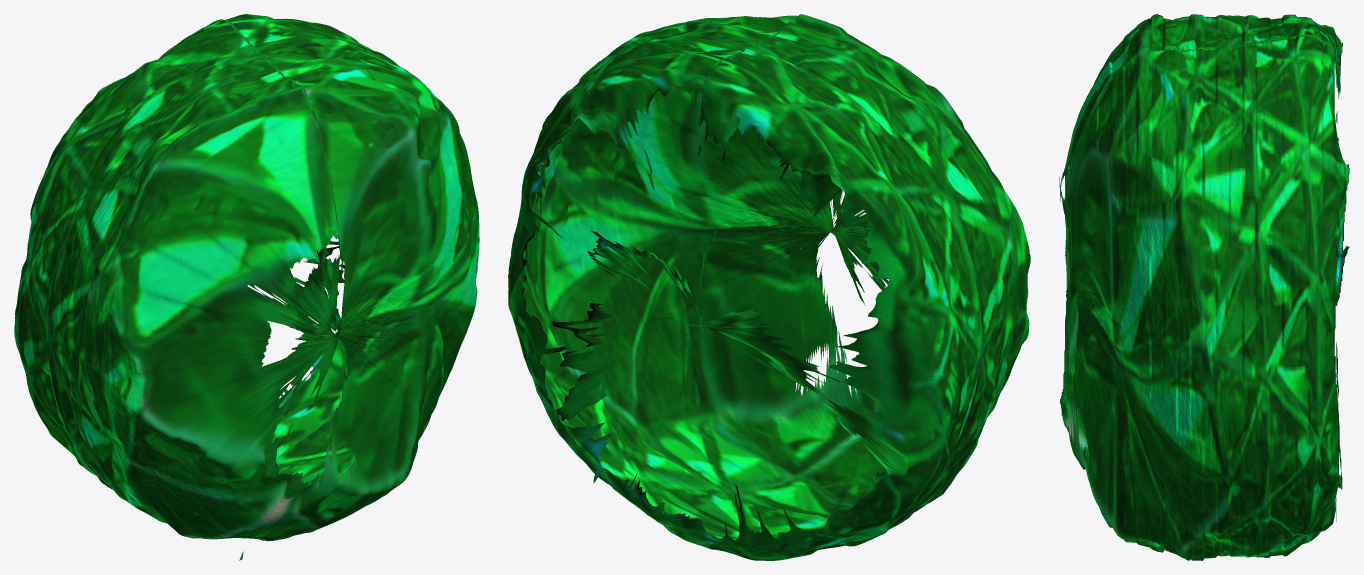
The picture shows the model from 3 angles, left to right: view 1: azimuth 30°, elevation 25°; view 2: azimuth 150°, elevation 25°; view 3: azimuth 270°, elevation 25°; orthographic projection. The views are drawn at different scales.
Visible parts, largest first — view 1: geometry_0; view 2: geometry_0; view 3: geometry_0.
Boxes of the visible parts, x1=… form: geometry_0: x1=14, y1=14, x2=479, y2=560; geometry_0: x1=508, y1=14, x2=1030, y2=560; geometry_0: x1=1059, y1=14, x2=1349, y2=560.
Size of the model in its own units: 1.89 by 1.98 by 1.03.
1 material, 1 textured.
